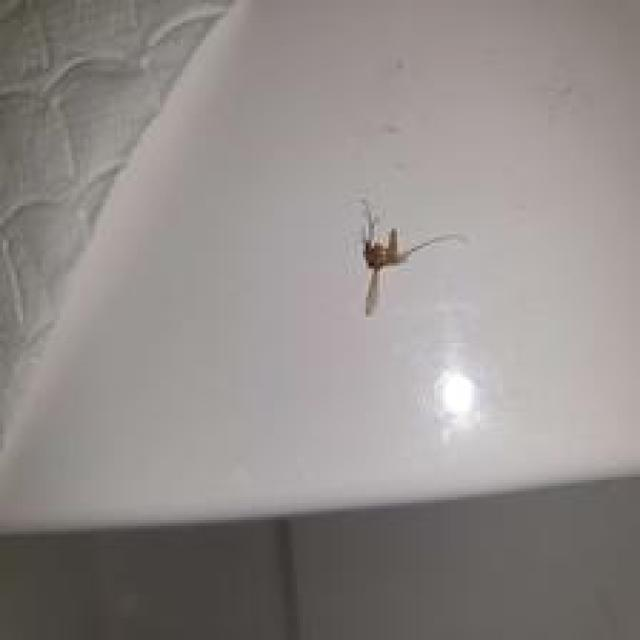Culex: (354, 197, 463, 317)
